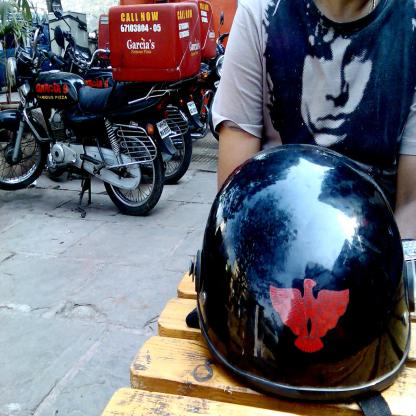Helmet: (188, 148, 394, 408)
